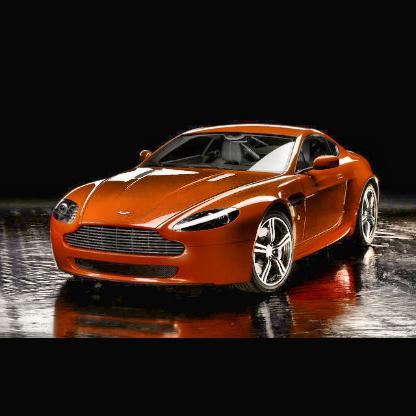Aston Martin Virage Coupe 2012: (46, 118, 391, 312)
